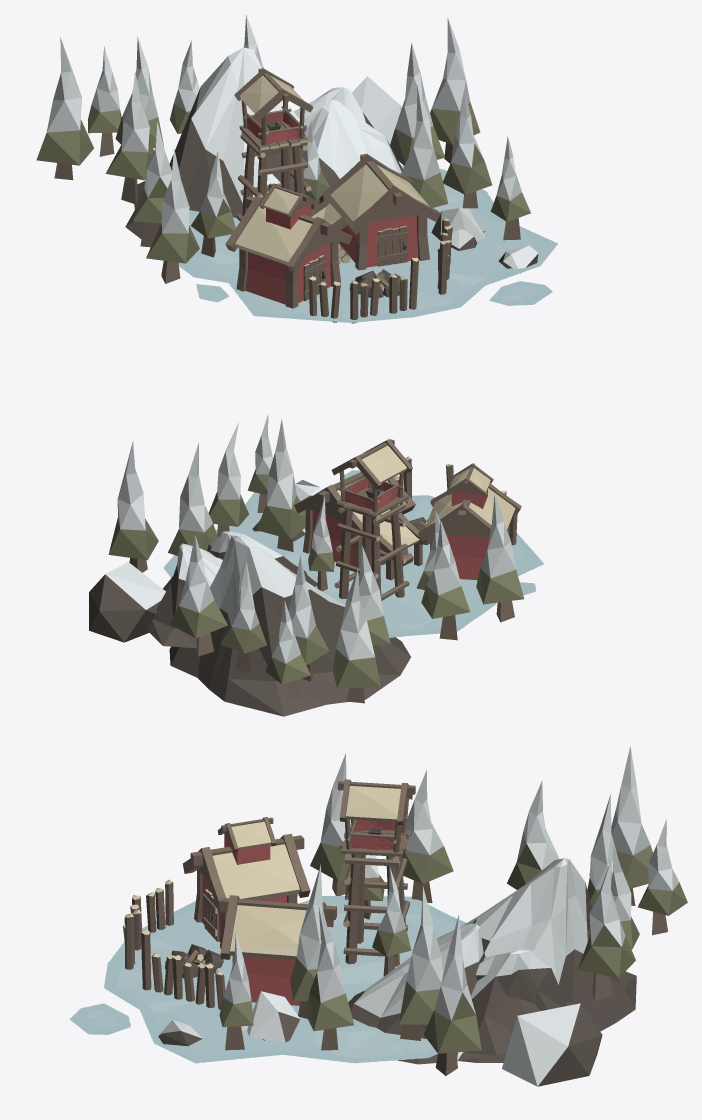
Rendered from townTundra02.fbx.
The picture shows the model from 3 angles, top to bottom: view 1: azimuth 30°, elevation 25°; view 2: azimuth 150°, elevation 25°; view 3: azimuth 270°, elevation 25°; orthographic projection. The views are drawn at different scales.
Visible parts, largest first — view 1: townTundra02, groundDecal; view 2: townTundra02, groundDecal; view 3: townTundra02, groundDecal.
Part boxes in pixels (bbox=[...]): townTundra02: bbox=[36, 14, 538, 323]; groundDecal: bbox=[178, 165, 557, 322]; townTundra02: bbox=[89, 414, 524, 716]; groundDecal: bbox=[163, 470, 543, 637]; townTundra02: bbox=[123, 745, 687, 1086]; groundDecal: bbox=[69, 894, 466, 1063].
Size of the model in its own units: 7.44 by 2.87 by 8.41.
2 materials, 2 textured.
